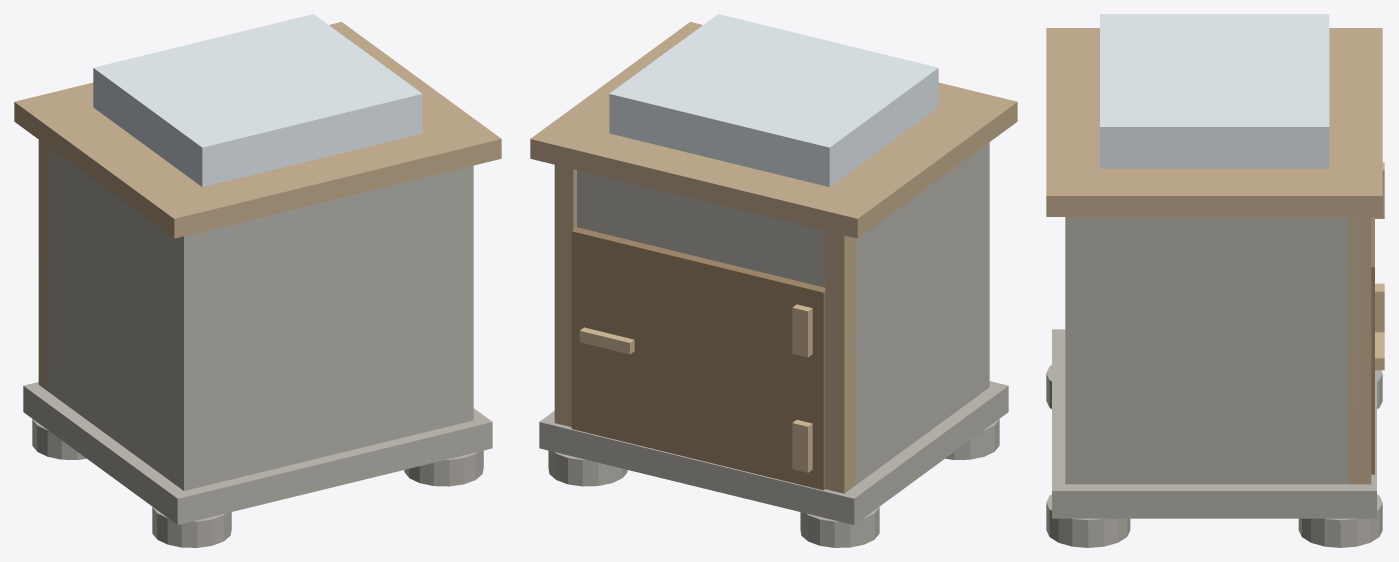
The model's file is 18-Casas_nevera_rustica.glb.
3 views of the same model, side by side, from view 1: azimuth 30°, elevation 25°; view 2: azimuth 150°, elevation 25°; view 3: azimuth 270°, elevation 25° (orthographic). The views are drawn at different scales.
Visible parts, largest first — view 1: SM_Nevera_M_Mueble_Piedra, SM_Nevera_M_Mueble_Hielo, SM_Nevera_M_Mueble_Madera_Clara; view 2: SM_Nevera_M_Mueble_Piedra, SM_Nevera_M_Mueble_Madera_Oscura, SM_Nevera_M_Mueble_Madera_Clara, SM_Nevera_M_Mueble_Hielo, SM_Nevera_M_Mueble_Bronce; view 3: SM_Nevera_M_Mueble_Piedra, SM_Nevera_M_Mueble_Madera_Clara, SM_Nevera_M_Mueble_Hielo, SM_Nevera_M_Mueble_Bronce, SM_Nevera_M_Mueble_Madera_Oscura.
Part boxes in pixels (box(x1,y1,x2,y2)): SM_Nevera_M_Mueble_Piedra: box(23, 147, 492, 547); SM_Nevera_M_Mueble_Hielo: box(93, 14, 422, 186); SM_Nevera_M_Mueble_Madera_Clara: box(14, 22, 501, 391); SM_Nevera_M_Mueble_Piedra: box(539, 142, 1008, 547); SM_Nevera_M_Mueble_Madera_Oscura: box(571, 227, 825, 490); SM_Nevera_M_Mueble_Madera_Clara: box(530, 22, 1017, 493); SM_Nevera_M_Mueble_Hielo: box(609, 14, 938, 186); SM_Nevera_M_Mueble_Bronce: box(579, 304, 812, 472); SM_Nevera_M_Mueble_Piedra: box(1046, 217, 1382, 547); SM_Nevera_M_Mueble_Madera_Clara: box(1046, 28, 1382, 484); SM_Nevera_M_Mueble_Hielo: box(1100, 14, 1329, 168); SM_Nevera_M_Mueble_Bronce: box(1375, 162, 1384, 370); SM_Nevera_M_Mueble_Madera_Oscura: box(1371, 217, 1374, 474).
Size of the model in its own units: 1.04 by 1.14 by 0.885.
